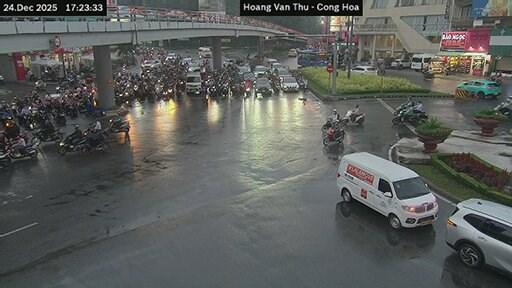motorbike: (57, 135, 88, 154), (393, 109, 426, 125), (6, 143, 38, 158), (29, 130, 63, 143), (339, 109, 364, 124), (494, 95, 511, 117), (323, 127, 344, 144), (108, 117, 128, 131), (320, 118, 341, 131), (393, 102, 412, 115), (54, 108, 66, 125), (0, 153, 10, 166), (489, 75, 502, 85), (298, 76, 306, 89), (35, 79, 45, 89), (427, 71, 433, 78), (423, 71, 427, 79)
